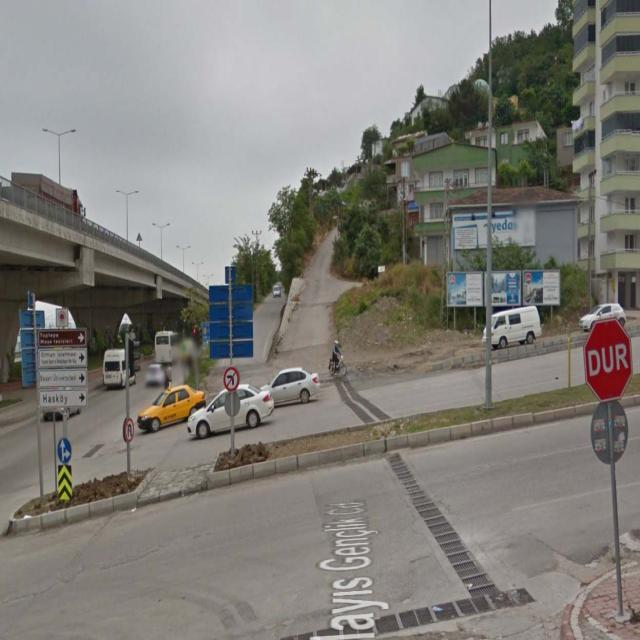dur: (583, 317, 634, 402)
ilerisag: (58, 438, 72, 463)
soladonulmez: (223, 367, 239, 392)
